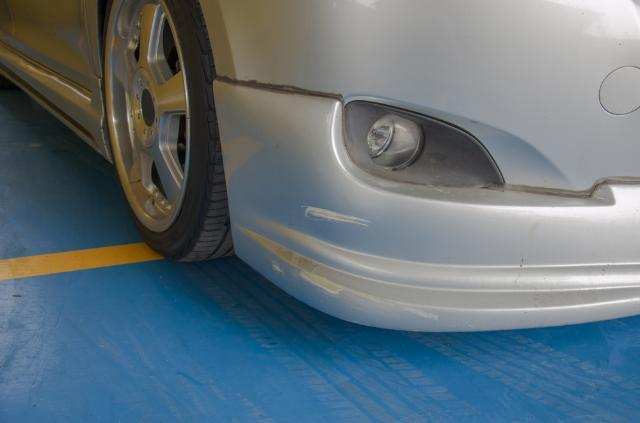scratch: (267, 256, 443, 328), (298, 201, 377, 226)
